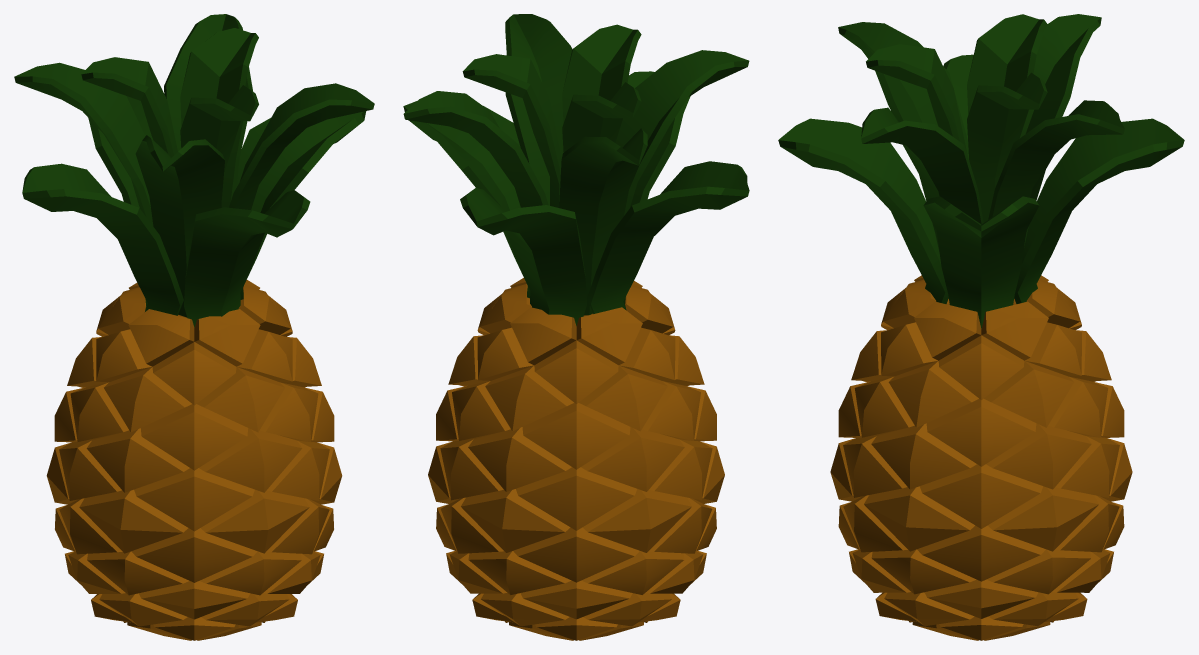
Rendered from Pineapple.FBX.
3 views of the same model, side by side, from view 1: azimuth 30°, elevation 25°; view 2: azimuth 150°, elevation 25°; view 3: azimuth 270°, elevation 25° (orthographic). The views are drawn at different scales.
Parts seen in each view (by area): view 1: Pineapple; view 2: Pineapple; view 3: Pineapple.
Part boxes in pixels (x1,y1,x2,y2): Pineapple: (14,14,374,640); Pineapple: (403,14,749,640); Pineapple: (778,14,1184,640).
Bounding box in the file's own units: 798 × 798 × 1215.
